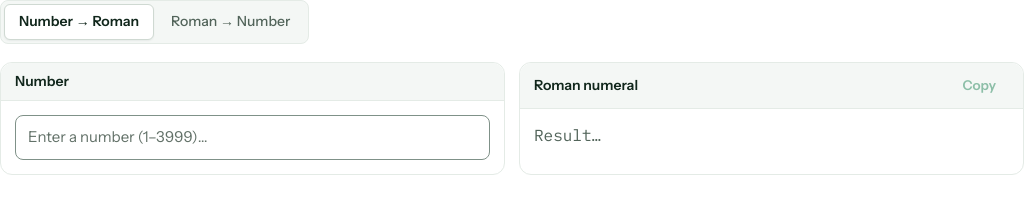
Test: RomanNumerals › shows error for 4000 (out of range)
In the field with placeholder "Enter a number (1–3999)…": (252, 138) [15,115,490,160], type "4000"
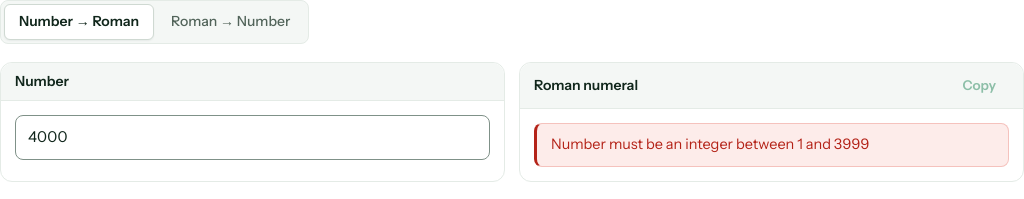
Expected: the text "Number must be an integer between 1 and 3999" is shown, [534,123,1009,167]
